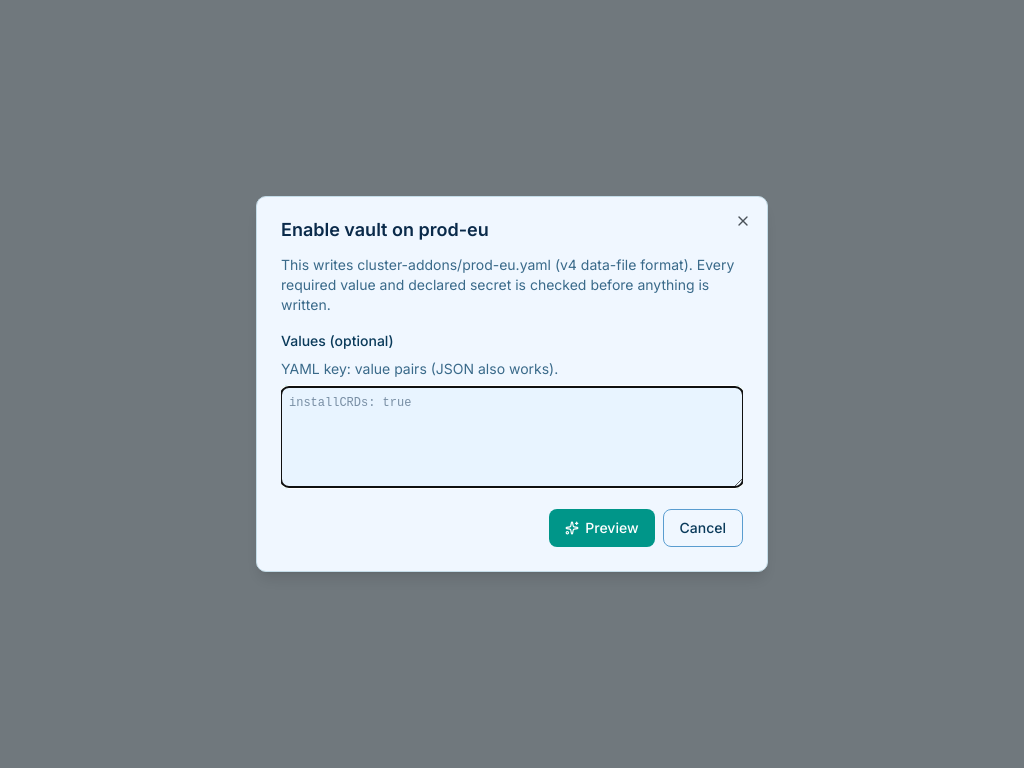
Test case: V4EnableAddonDialog › a 422 shows the plain-words problems list BEFORE any PR talk
Click the button "Preview" at [602, 528], box [549, 509, 655, 547]
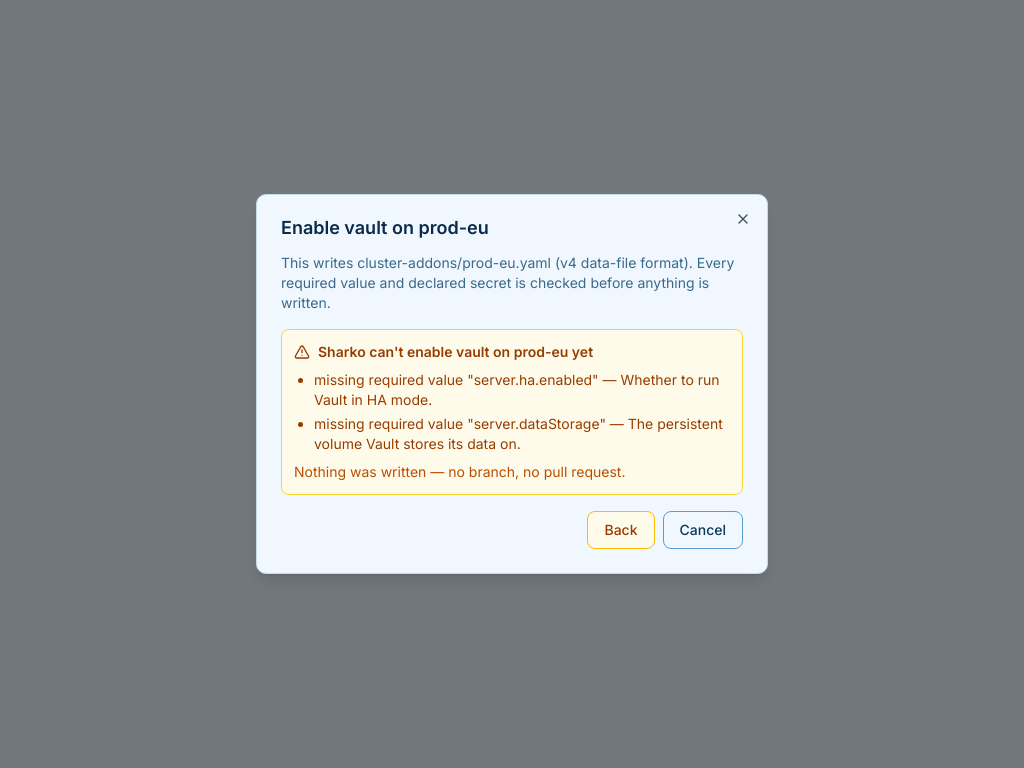
expect the element with test id "v4-problems" is shown: met, box [281, 329, 743, 495]
expect the list item "missing required value \"server.ha.enabled\"" is shown: met, box [314, 371, 720, 408]
expect the list item "missing required value \"server.dataStorage\"" is shown: met, box [314, 415, 723, 452]
